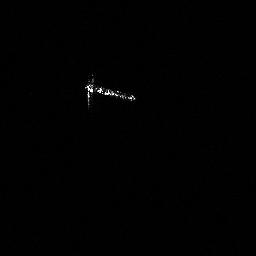ship: (79, 72, 138, 111)
